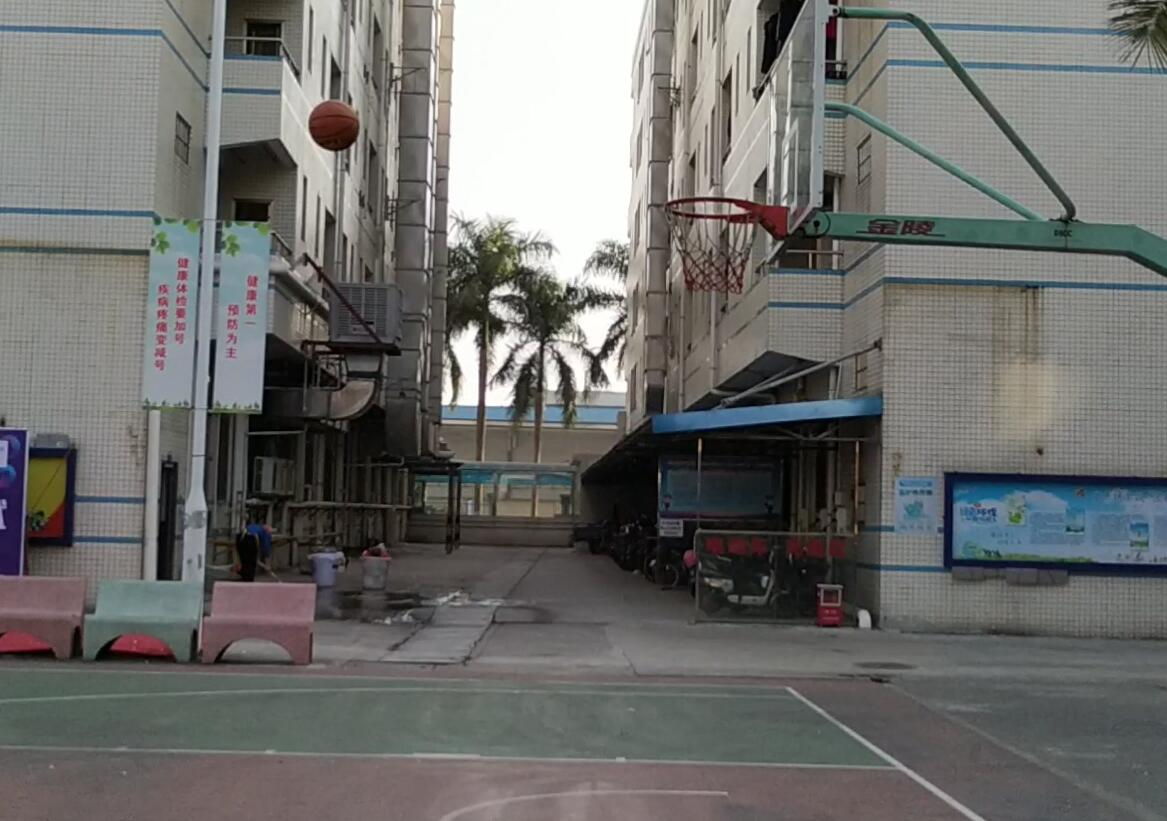basketball: (307, 97, 361, 158)
